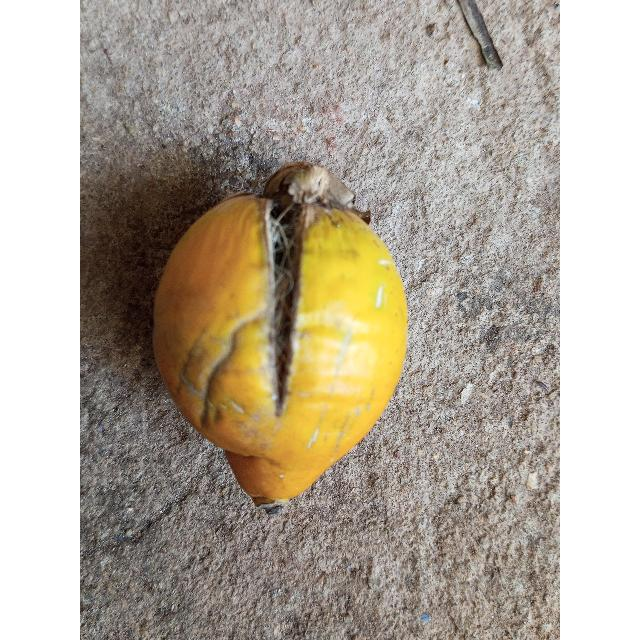damaged: (152, 163, 408, 509)
